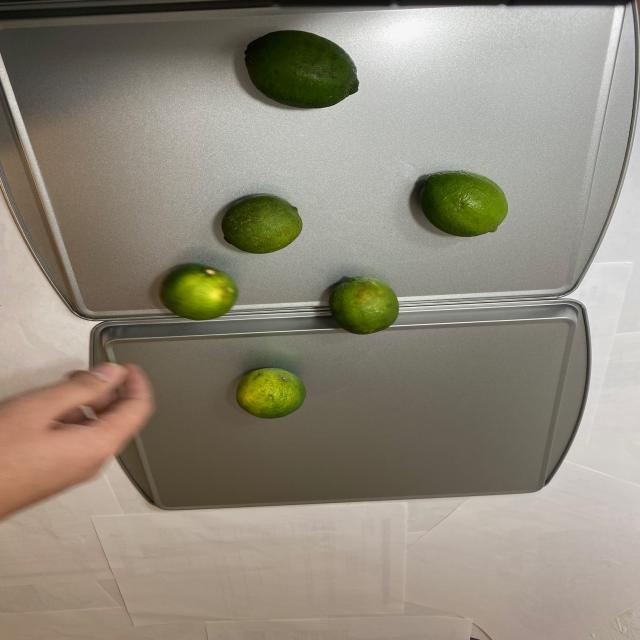lemon: (144, 31, 512, 341), (222, 366, 311, 425)
